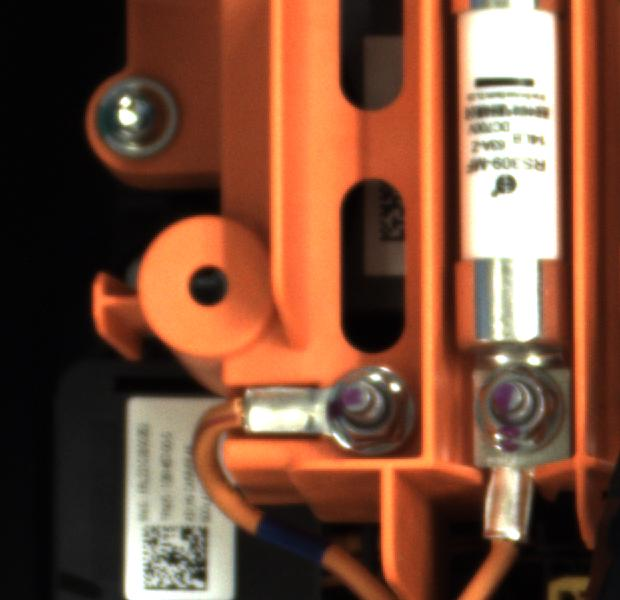screw_m: (87, 63, 186, 162)
screw_s: (460, 363, 565, 453), (317, 358, 415, 453)
